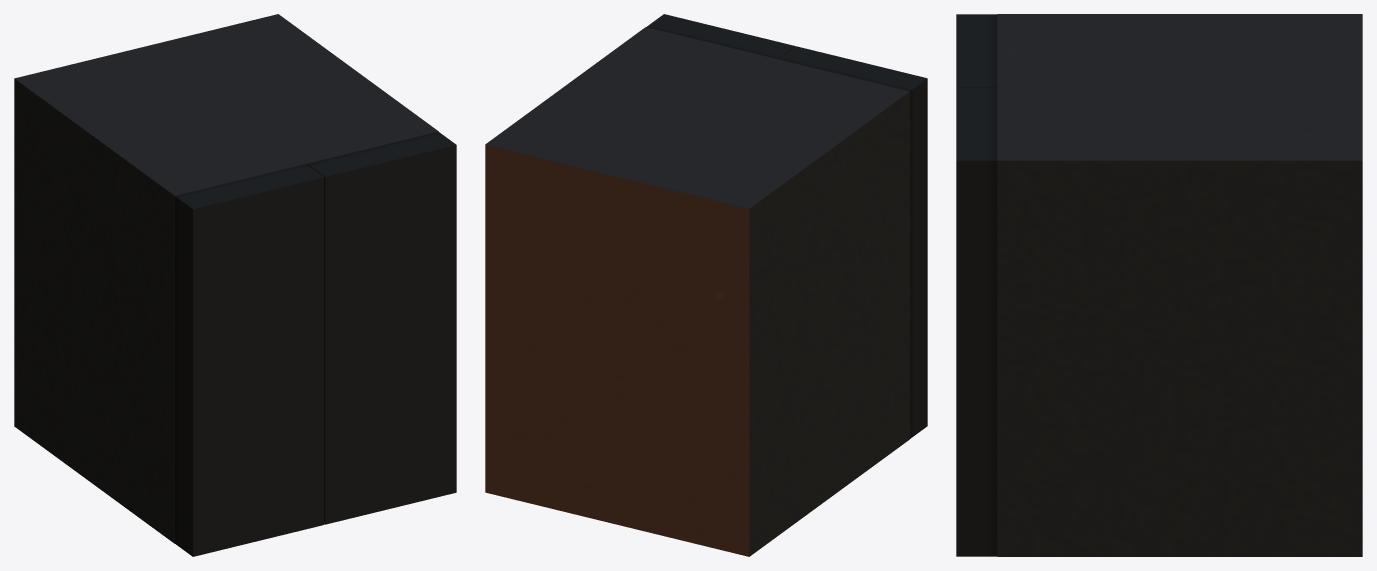
File: Elevator Export.gltf
3 renders of one model, left to right at view 1: azimuth 30°, elevation 25°; view 2: azimuth 150°, elevation 25°; view 3: azimuth 270°, elevation 25°, orthographic. The views are drawn at different scales.
Parts seen in each view (by area): view 1: COLLIDER Elevator, COLLIDER DOOR_LINEAR Left Elevator Door, COLLIDER DOOR_LINEAR Left Elevator Door.001; view 2: COLLIDER Elevator, COLLIDER DOOR_LINEAR Left Elevator Door, COLLIDER DOOR_LINEAR Left Elevator Door.001; view 3: COLLIDER Elevator, COLLIDER DOOR_LINEAR Left Elevator Door.001, COLLIDER DOOR_LINEAR Left Elevator Door.
Part boxes in pixels (x1,y1,x2,y2): COLLIDER Elevator: (14, 14, 438, 543); COLLIDER DOOR_LINEAR Left Elevator Door: (175, 164, 324, 556); COLLIDER DOOR_LINEAR Left Elevator Door.001: (307, 131, 456, 524); COLLIDER Elevator: (485, 27, 909, 556); COLLIDER DOOR_LINEAR Left Elevator Door: (779, 46, 927, 438); COLLIDER DOOR_LINEAR Left Elevator Door.001: (646, 14, 795, 59); COLLIDER Elevator: (997, 14, 1362, 556); COLLIDER DOOR_LINEAR Left Elevator Door.001: (956, 87, 997, 556); COLLIDER DOOR_LINEAR Left Elevator Door: (956, 14, 997, 87).
Size of the model in its own units: 3.1 by 3.9 by 3.63.
